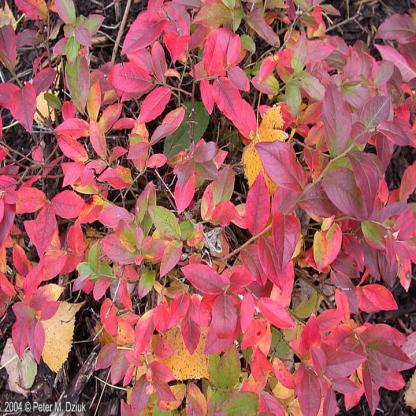Blueberry leaf: (184, 263, 261, 354), (168, 148, 240, 236), (12, 182, 87, 266), (314, 163, 380, 235), (254, 142, 309, 196), (321, 79, 353, 170), (207, 74, 249, 133), (240, 171, 273, 239), (270, 202, 302, 272)
